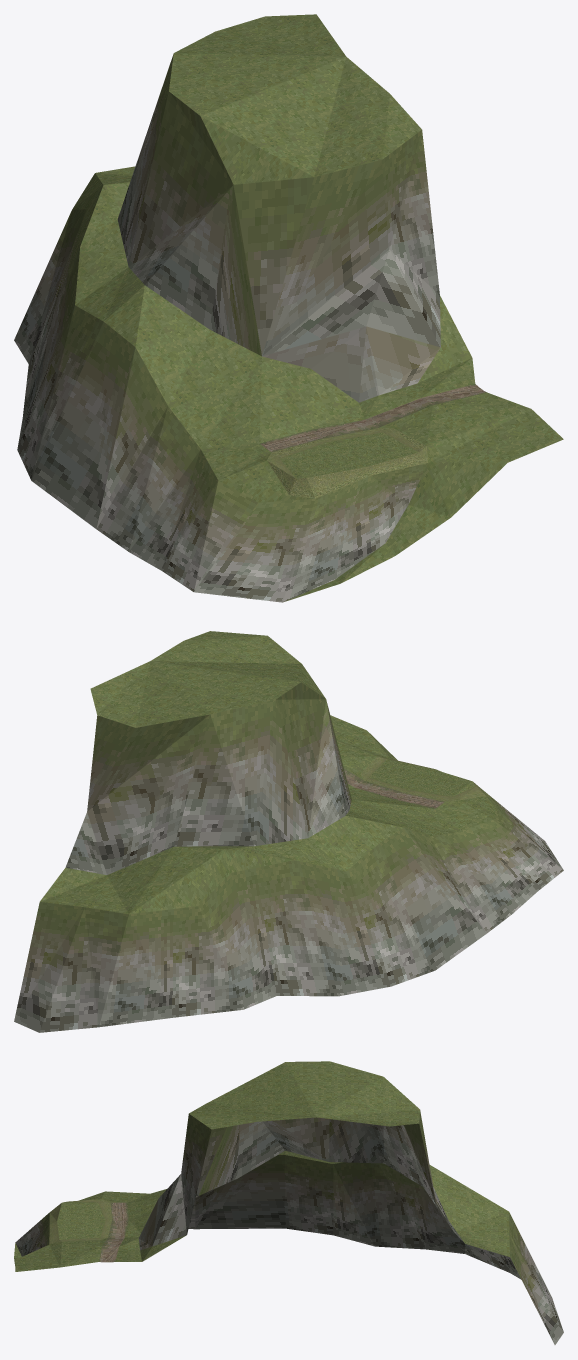
The model's file is lod_sw_bit_04.obj.
3 views of the same model, one above another, from view 1: azimuth 30°, elevation 25°; view 2: azimuth 150°, elevation 25°; view 3: azimuth 270°, elevation 25° (orthographic). The views are drawn at different scales.
Visible parts, largest first — view 1: lod_sw_bit_04; view 2: lod_sw_bit_04; view 3: lod_sw_bit_04.
Part boxes in pixels (x1,y1,x2,y2): lod_sw_bit_04: (14, 14, 563, 602); lod_sw_bit_04: (14, 631, 563, 1032); lod_sw_bit_04: (14, 1061, 563, 1344).
Size of the model in its own units: 113 by 98.81 by 216.
Materials: 6 (6 with a texture image).
